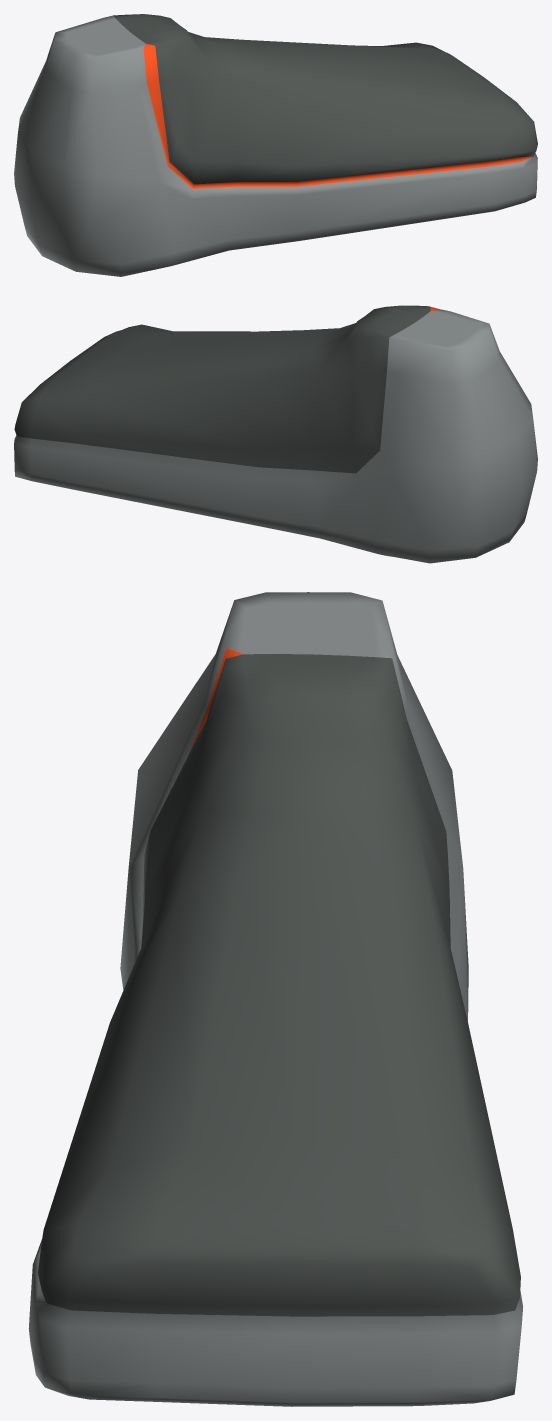
File: xsens_RightFoot.dae
3 renders of one model, top to bottom at view 1: azimuth 30°, elevation 25°; view 2: azimuth 150°, elevation 25°; view 3: azimuth 270°, elevation 25°, orthographic. The views are drawn at different scales.
Visible parts, largest first — view 1: RightFoot; view 2: RightFoot; view 3: RightFoot.
Boxes of the visible parts, <box> form: RightFoot: <box>14,14,537,276</box>; RightFoot: <box>14,305,537,563</box>; RightFoot: <box>28,592,522,1406</box>.
Size of the model in its own units: 0.1895 by 0.0884 by 0.0822.
